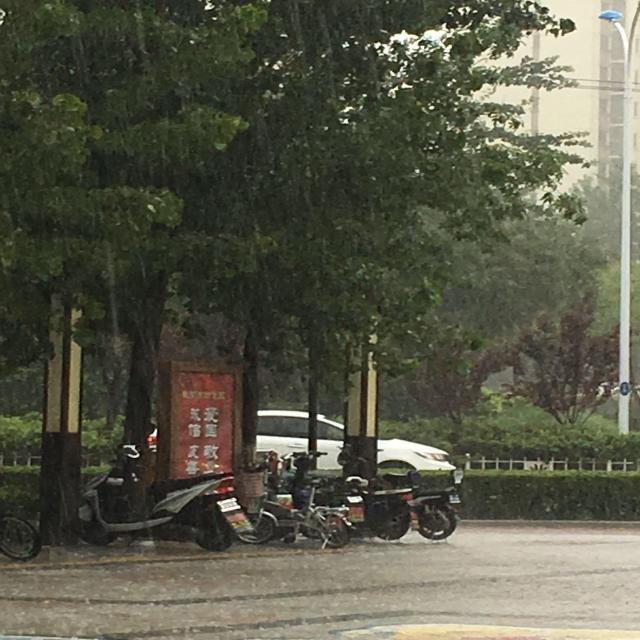car: (146, 409, 457, 472)
